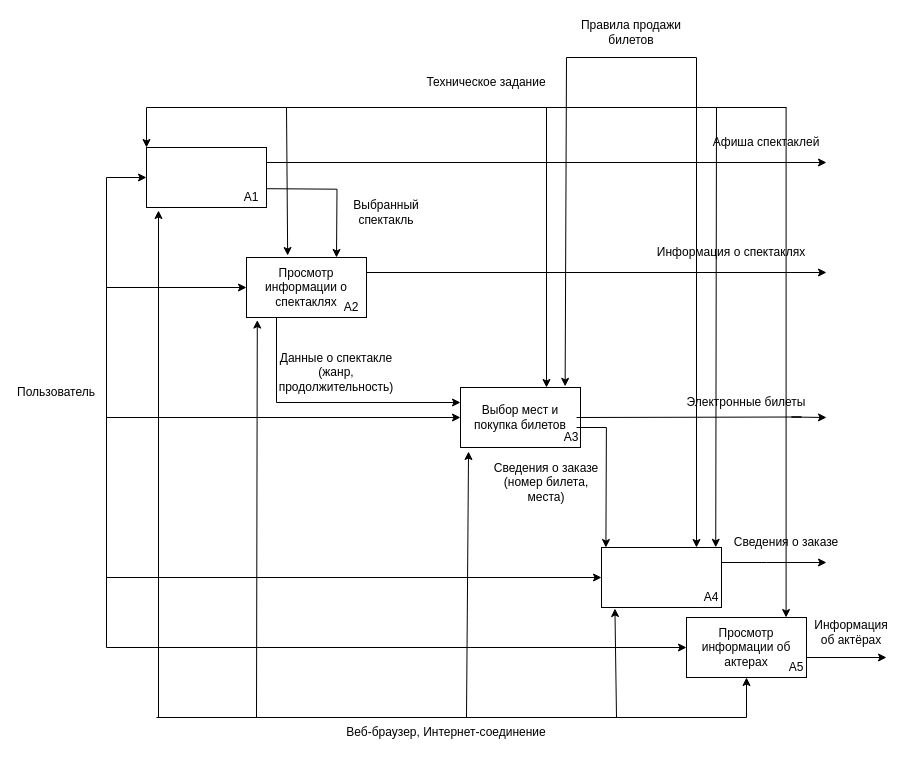
This 912x764 diagram has some shape labels left out. Each missing label, with the box of its shape:
Просмотр афиши и расписания: (146, 146, 266, 208)
Просмотр приобретенных билетов: (600, 546, 722, 608)
